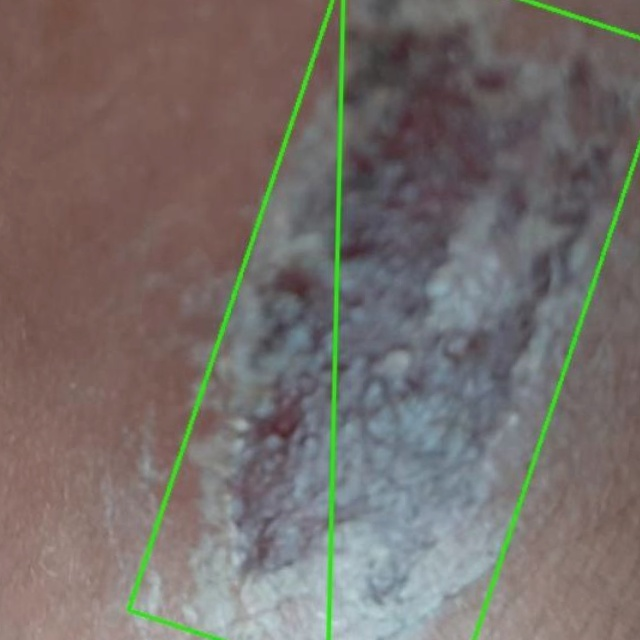Atopic Dermatitis: (129, 0, 639, 639), (0, 0, 343, 639)
